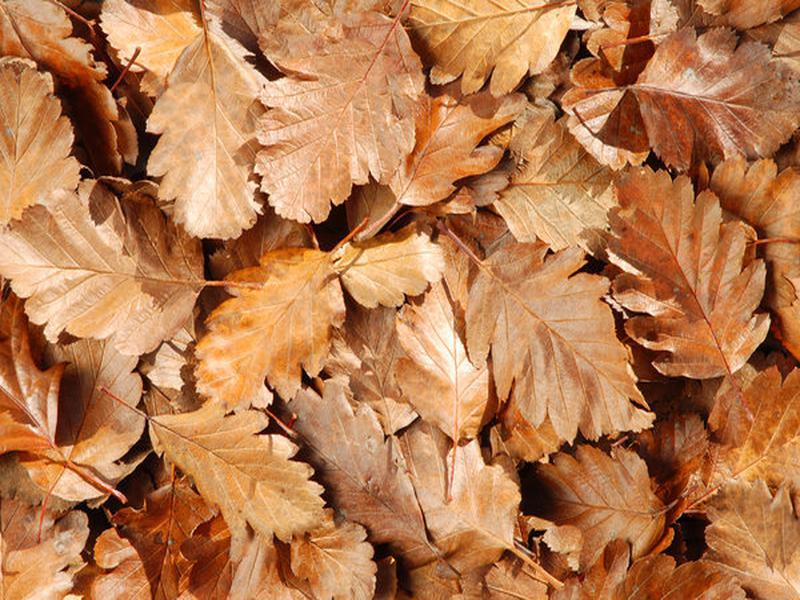leaf: (447, 226, 660, 444), (4, 178, 243, 359), (248, 11, 427, 227), (600, 164, 777, 382), (104, 393, 347, 548), (188, 236, 350, 415), (136, 31, 274, 238), (619, 21, 800, 169)
